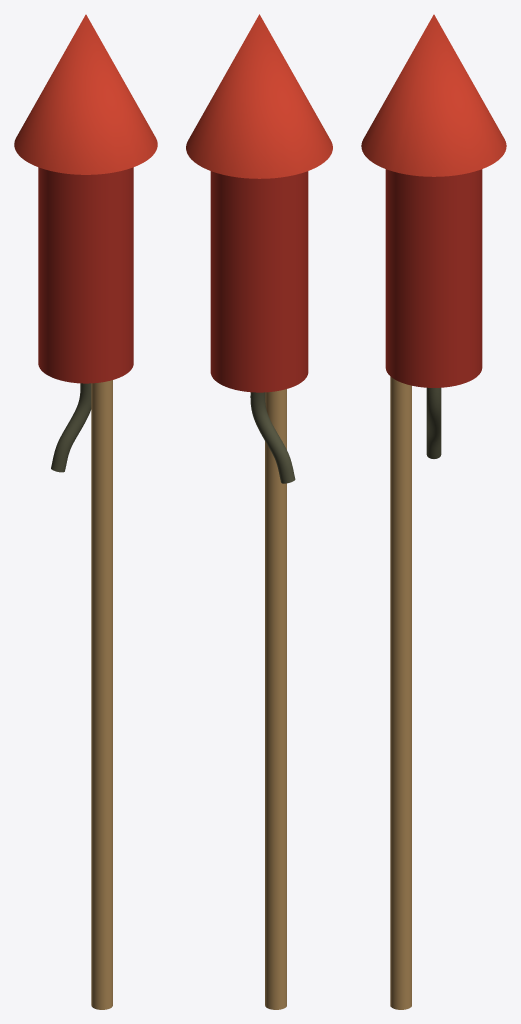
3 views of the same model, side by side, from view 1: azimuth 30°, elevation 25°; view 2: azimuth 150°, elevation 25°; view 3: azimuth 270°, elevation 25° (orthographic). The views are drawn at different scales.
Visible parts, largest first — view 1: paper_casing, stick, nose, fuse; view 2: paper_casing, nose, stick, fuse; view 3: paper_casing, stick, nose, fuse.
Part boxes in pixels (<box>): paper_casing: <box>38,167,133,383</box>; stick: <box>91,380,112,1009</box>; nose: <box>14,14,157,174</box>; fuse: <box>51,383,91,472</box>; paper_casing: <box>210,171,308,392</box>; nose: <box>186,14,332,178</box>; stick: <box>265,389,286,1009</box>; fuse: <box>250,392,295,483</box>; paper_casing: <box>385,169,482,387</box>; stick: <box>390,376,411,1009</box>; nose: <box>361,14,506,176</box>; fuse: <box>426,387,441,458</box>.
Size of the model in its own units: 0.0796 by 0.6 by 0.0796.
